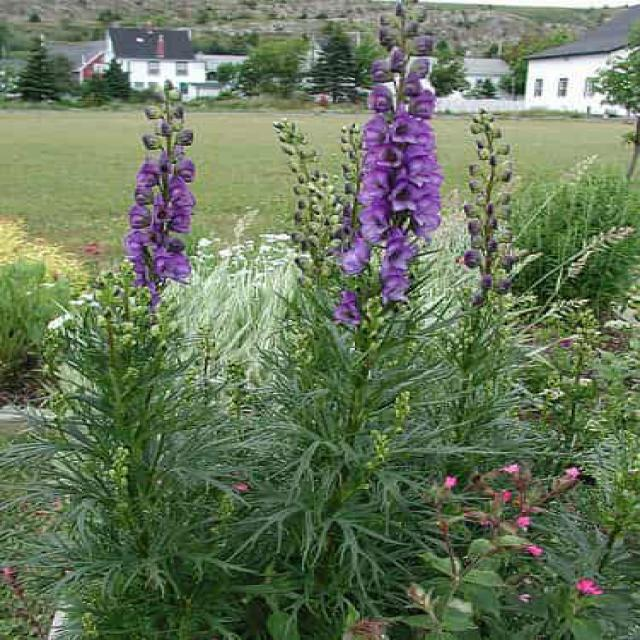Meetha: (174, 0, 614, 511), (91, 59, 279, 373), (345, 461, 640, 640), (353, 109, 468, 405)
